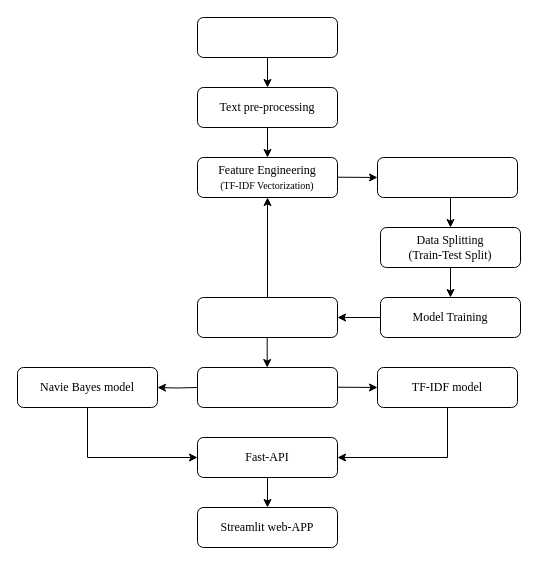
This 538x565 diagram has some shape labels left out. Here are the shapes that lost their labels. From the top down, the centre of each, then its label:
At (267,37): "Dataset (toxic and non-toxic text)".
At (447,177): "Model Selection (Naive Bayes)".
At (267,317): "Model testing and Evaluation".
At (267,387): "Saving the Model".
